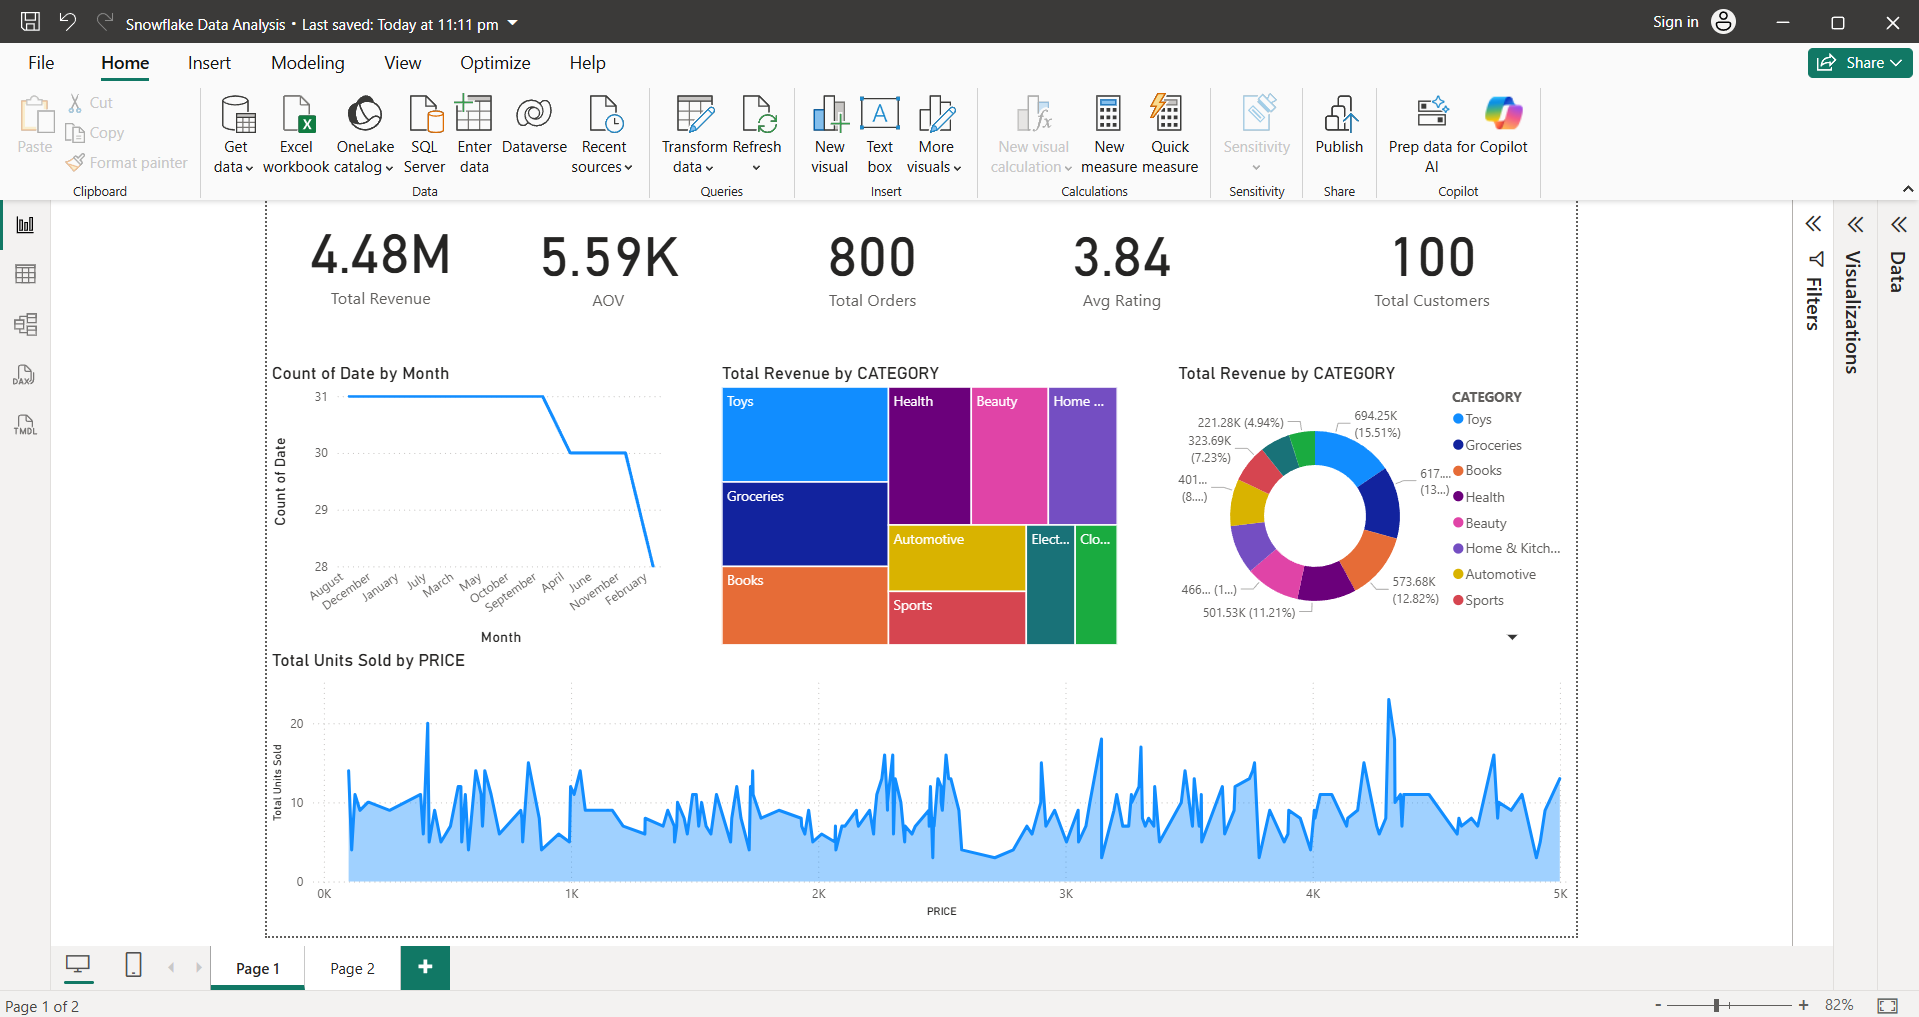

Layout of this report page (visuals, bound fields, positions):
{"tool":"powerbi","page":{"name":"Page 1","canvas":[1280,720],"ordinal":0},"visuals":[{"type":"card","fields":{"Values":["DIM_CUSTOMERS.Total Orders"]},"box":[495.5,0,194.6,118.3],"z":0},{"type":"card","fields":{"Values":["DIM_CUSTOMERS.AOV"]},"box":[223.1,0,223.1,118.3],"z":1000},{"type":"card","fields":{"Values":["DIM_CUSTOMERS.Total Revenue"]},"box":[0,0,223.1,113.8],"z":2000},{"type":"card","fields":{"Values":["DIM_CUSTOMERS.Total Customers"]},"box":[1028.5,0,223.1,118.3],"z":3000},{"type":"card","fields":{"Values":["DIM_CUSTOMERS.Avg Rating"]},"box":[724.6,0,223.1,118.3],"z":4000},{"type":"lineChart","fields":{"Y":["CountNonNull(Date.Date)"],"Category":["Date.Month"]},"box":[0,158.7,393.7,281.5],"z":5000},{"type":"treemap","fields":{"Group":["DIM_PRODUCTS.CATEGORY"],"Values":["DIM_CUSTOMERS.Total Revenue"]},"box":[440.1,158.7,396.7,281.5],"z":6000},{"type":"donutChart","fields":{"Category":["DIM_PRODUCTS.CATEGORY"],"Y":["DIM_CUSTOMERS.Total Revenue"]},"box":[886.3,158.7,393.7,281.5],"z":7000},{"type":"stackedAreaChart","fields":{"Category":["DIM_PRODUCTS.PRICE"],"Y":["DIM_CUSTOMERS.Total Units Sold"]},"box":[0,440.1,1280,266.5],"z":8000}]}

Visuals, with their boxes on the page's 1280x720 design canvas (x1, y1, x2, y2). These are canvas units, not pixel positions in the 1919x1017 screenshot, which may show the page scaled, cropped or inside an application window:
card - DIM_CUSTOMERS.Total Orders: pyautogui.locateOnScreen(496, 0, 690, 118)
card - DIM_CUSTOMERS.AOV: pyautogui.locateOnScreen(223, 0, 446, 118)
card - DIM_CUSTOMERS.Total Revenue: pyautogui.locateOnScreen(0, 0, 223, 114)
card - DIM_CUSTOMERS.Total Customers: pyautogui.locateOnScreen(1028, 0, 1252, 118)
card - DIM_CUSTOMERS.Avg Rating: pyautogui.locateOnScreen(725, 0, 948, 118)
lineChart - CountNonNull(Date.Date) x Date.Month: pyautogui.locateOnScreen(0, 159, 394, 440)
treemap - DIM_PRODUCTS.CATEGORY x DIM_CUSTOMERS.Total Revenue: pyautogui.locateOnScreen(440, 159, 837, 440)
donutChart - DIM_PRODUCTS.CATEGORY x DIM_CUSTOMERS.Total Revenue: pyautogui.locateOnScreen(886, 159, 1280, 440)
stackedAreaChart - DIM_PRODUCTS.PRICE x DIM_CUSTOMERS.Total Units Sold: pyautogui.locateOnScreen(0, 440, 1280, 707)
